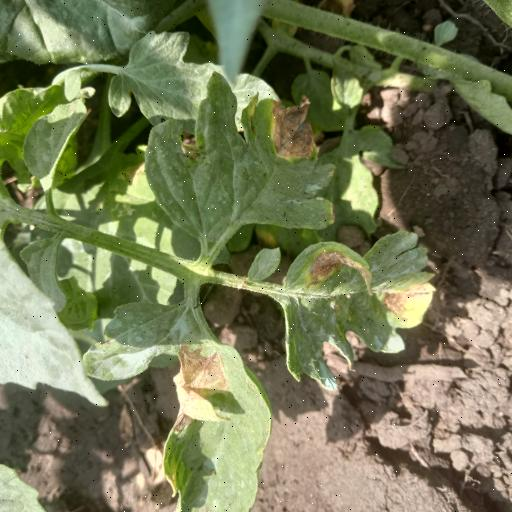Tomato_Brown_Spots: (86, 284, 279, 512), (140, 68, 340, 246), (278, 225, 437, 392)
